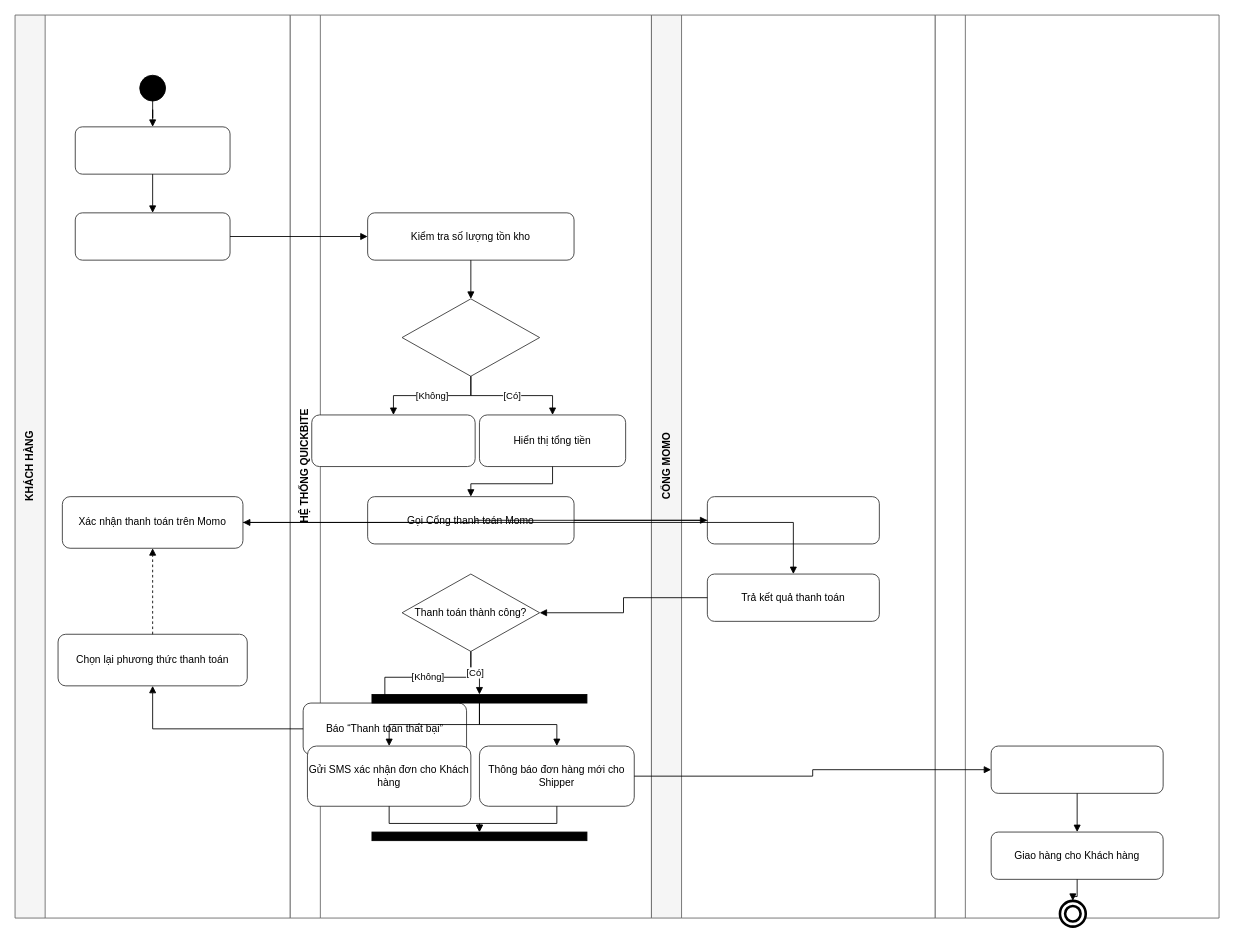
Image size: 1234x943. Some labels were removed from this diagram. The box of each missing label's shape, as (x1, y1, x2, y2) in pixels:
Hiển thị: “Món ăn đã hết”: (311, 414, 475, 467)
Món ăn còn hàng?: (401, 298, 540, 376)
Nhấn [Đặt đồ ăn]: (74, 212, 230, 260)
Nhận đơn: (990, 745, 1163, 793)
SHIPPER: (934, 14, 1219, 918)
Tiếp nhận yêu cầu thanh toán: (706, 496, 879, 544)
Tìm kiếm món ăn: (74, 126, 230, 174)
